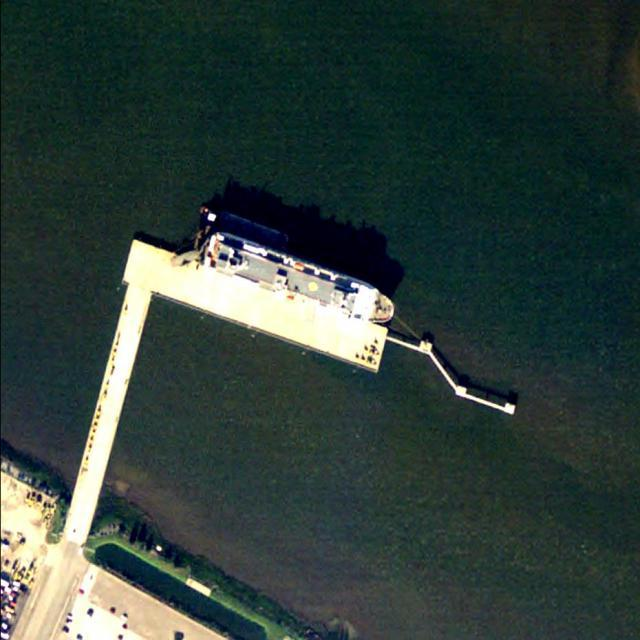Dock: (118, 236, 396, 372)
RoRo: (191, 223, 402, 331)
